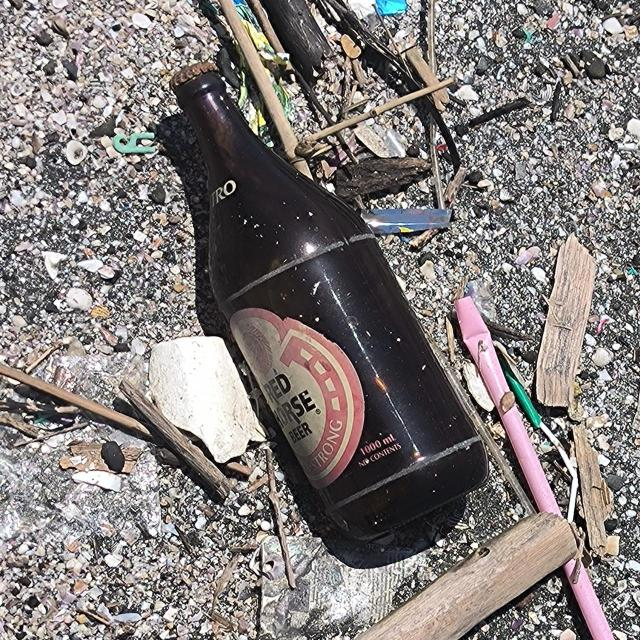glass_waste: (170, 61, 490, 545)
styrofoam_waste: (149, 337, 271, 464)
